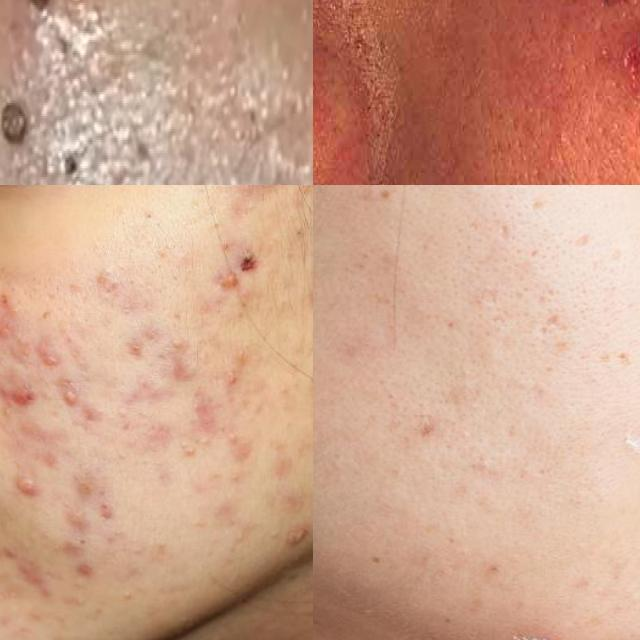comedone: (0, 100, 30, 146), (22, 0, 64, 12), (549, 174, 578, 185), (636, 16, 640, 51)
papule: (2, 461, 61, 514), (275, 514, 313, 556), (212, 260, 248, 302), (172, 436, 209, 466), (163, 326, 195, 355), (0, 309, 21, 347), (58, 383, 86, 409), (40, 346, 65, 372)
